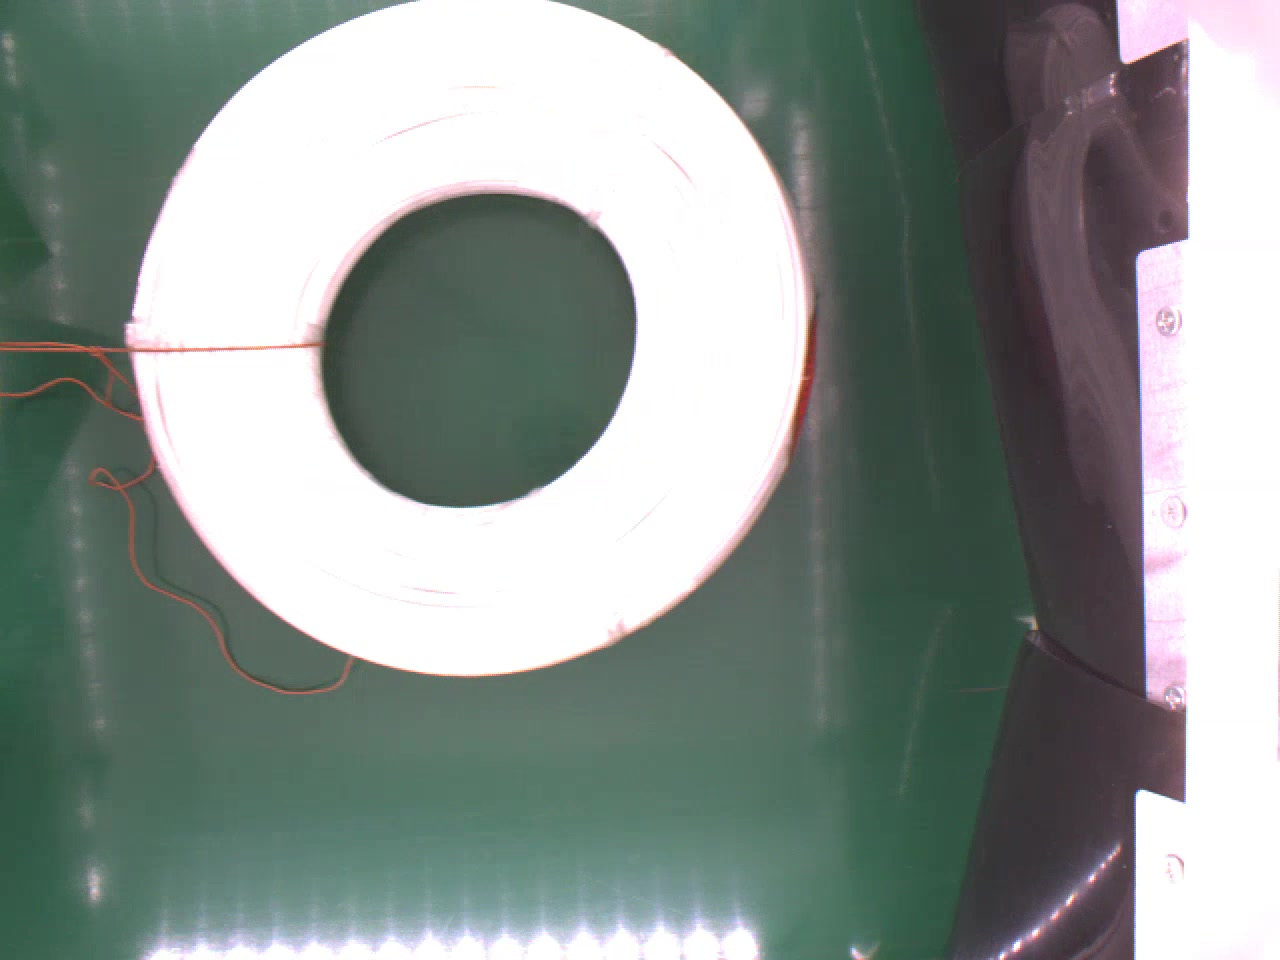white: (120, 1, 812, 685)
